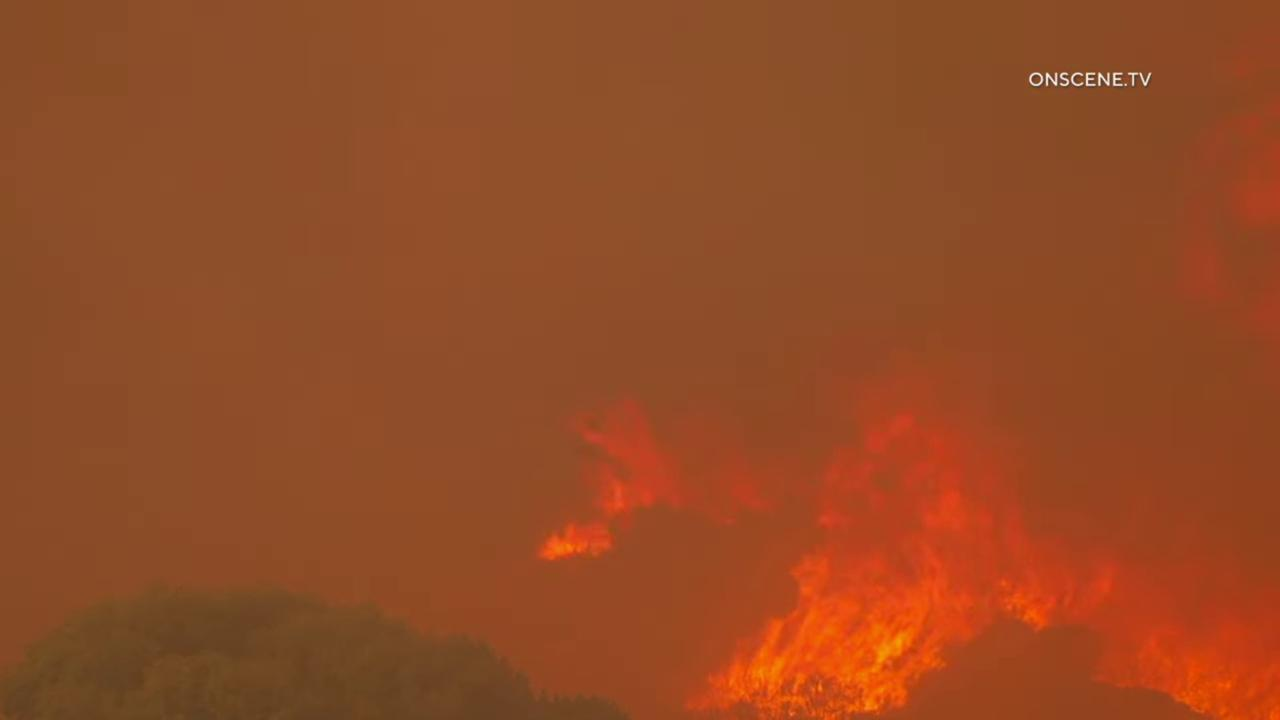fire: (673, 368, 1280, 717), (518, 385, 781, 573)
smoke: (0, 0, 1280, 720)
